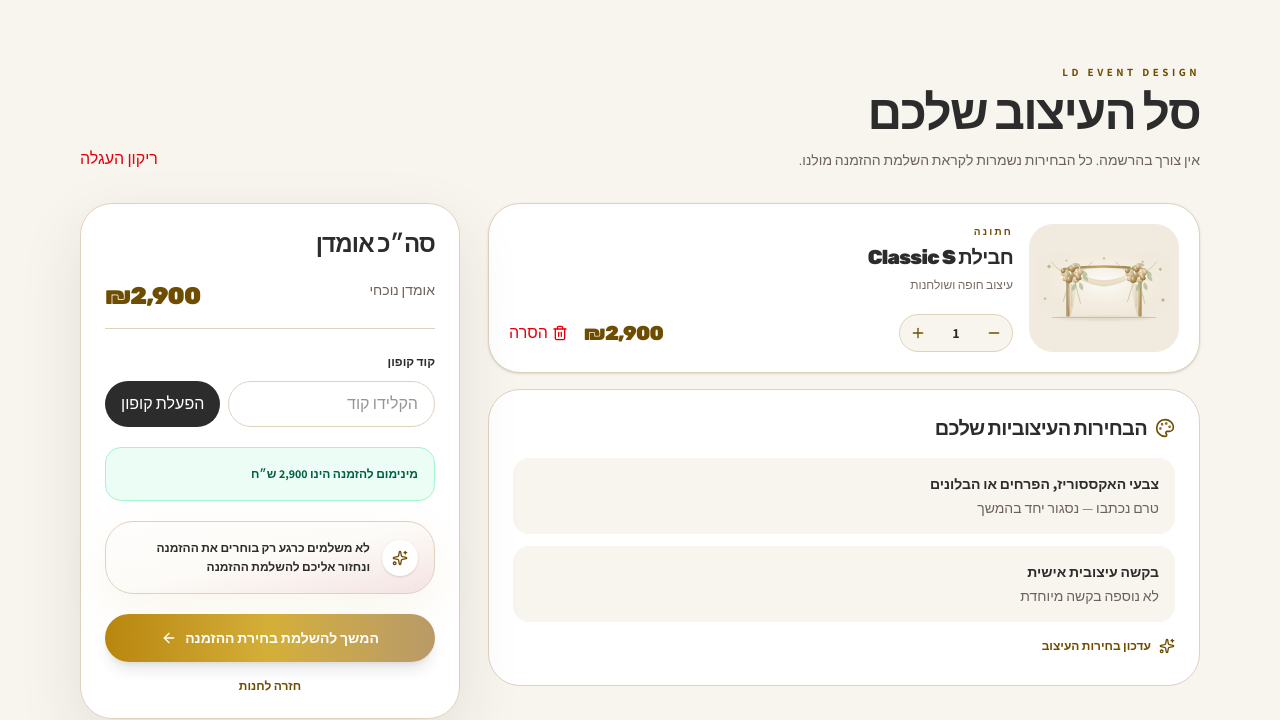
Scenario: CartPage › updates quantities with plus and minus buttons
Click the button named "הגדלת כמות חבילת Classic S".
click(918, 333)  # box [900, 315, 936, 351]
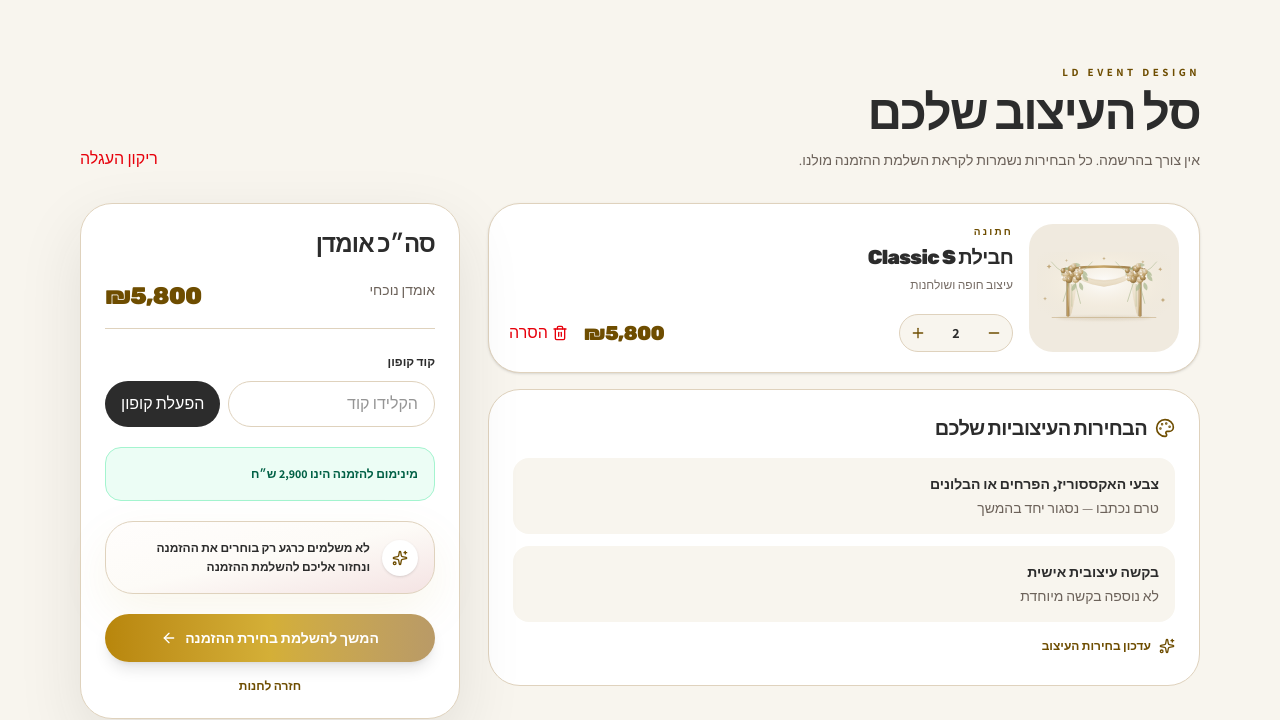
Now the text "₪5,800" below "עיצוב חופה ושולחנות" is shown, box [584, 321, 664, 345]
Click the button named "הפחתת כמות חבילת Classic S".
click(994, 333)  # box [976, 315, 1012, 351]
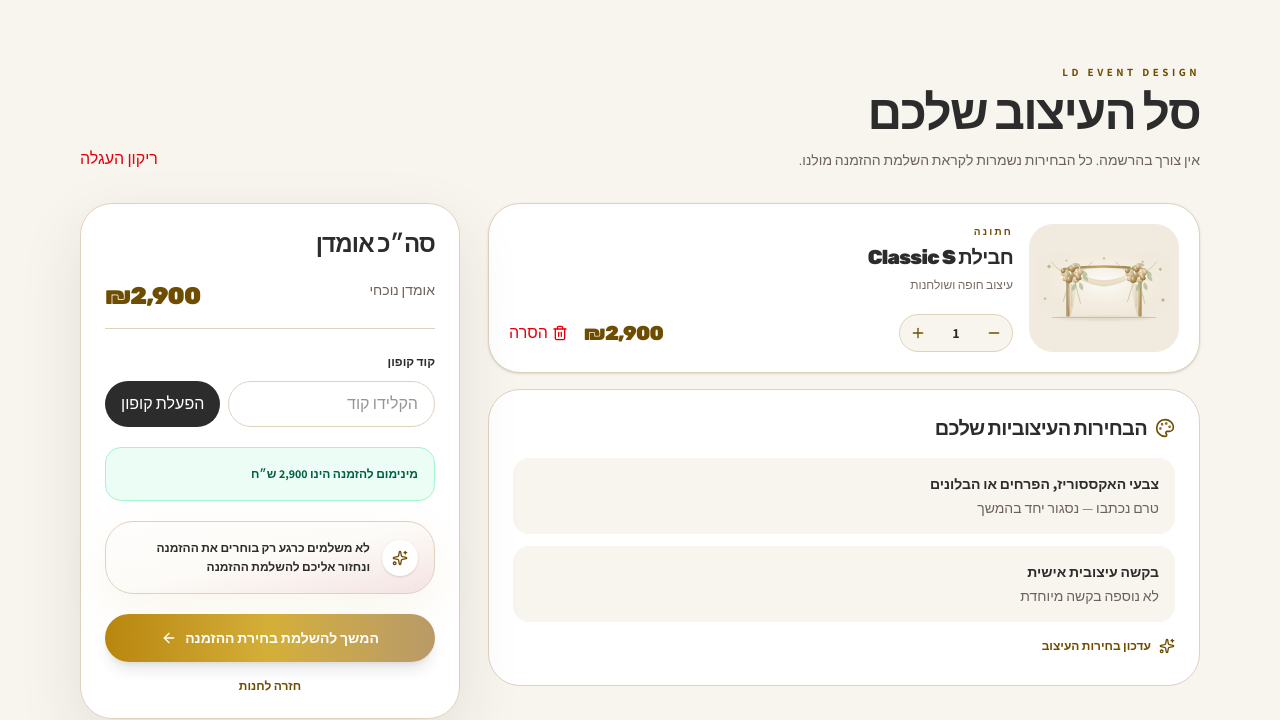
Now the text "₪2,900" below "עיצוב חופה ושולחנות" is shown, box [584, 321, 663, 345]
